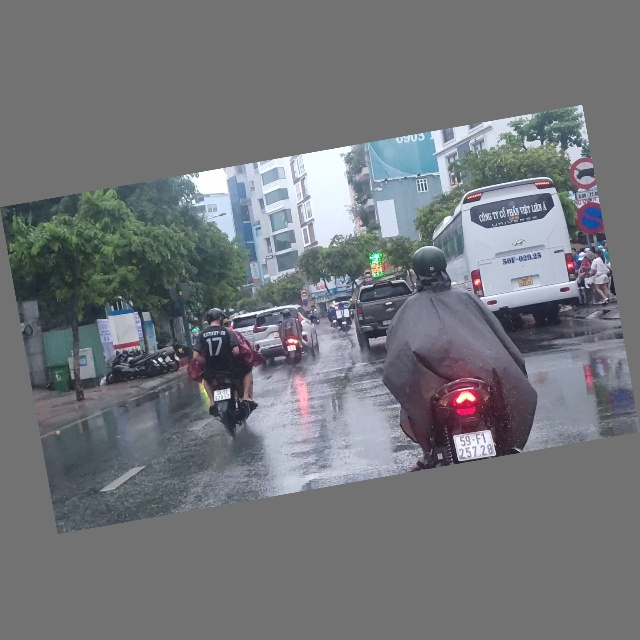P.106a*Xe tai: (568, 156, 597, 192), (362, 269, 373, 279), (300, 290, 308, 298)
P.131a: (575, 200, 605, 238), (302, 299, 309, 308)
